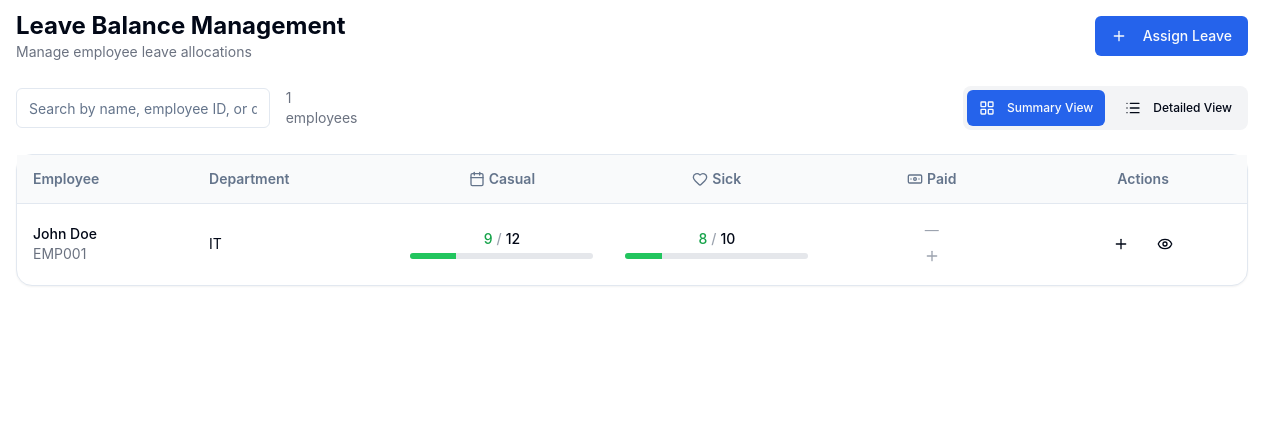
Test: LeaveBalancesPage › filters employees by search term
Expected: the text "John Doe" is shown, [33,225,97,242]
In the field with placeholder "Search by name, employee ID, or department...": [143, 108] box [16,88,270,128], type "EMP001"
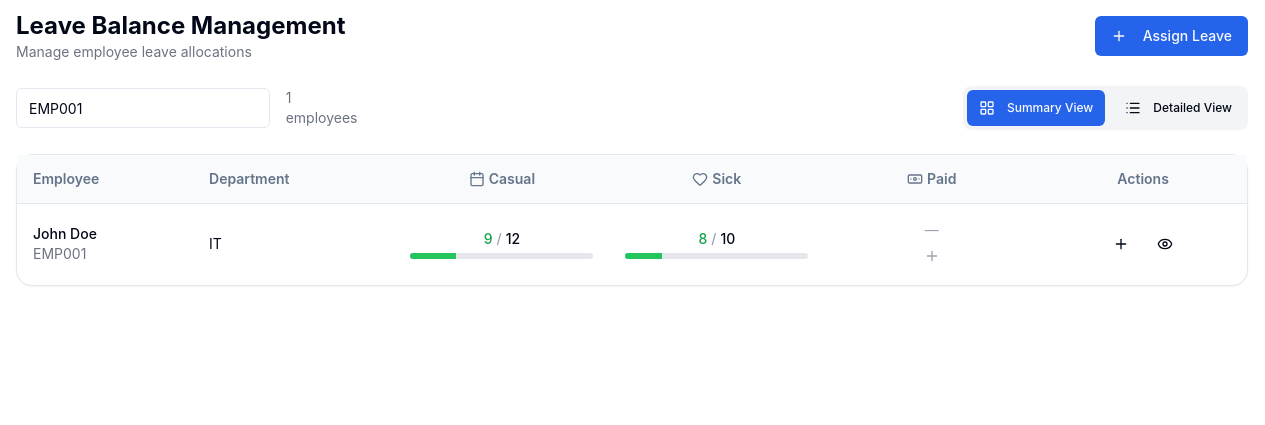
Expected: the text "John Doe" is shown, [33,225,97,242]
Replace the text in the field with placeholder "Search by name, employee ID, or department..." with "nonexistent": [143, 108] box [16,88,270,128]
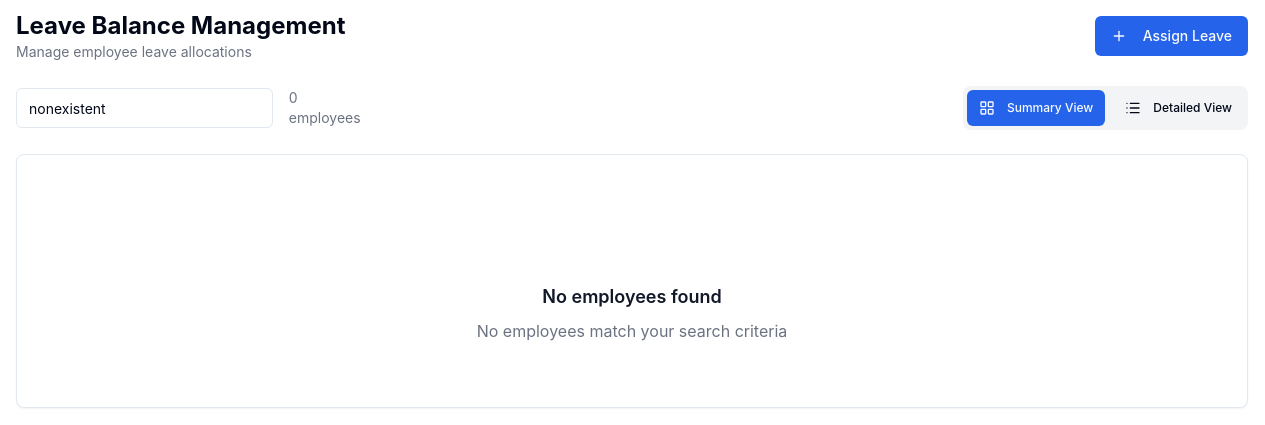
Expected: the text "No employees match your search criteria" is shown, [477,321,787,341]
